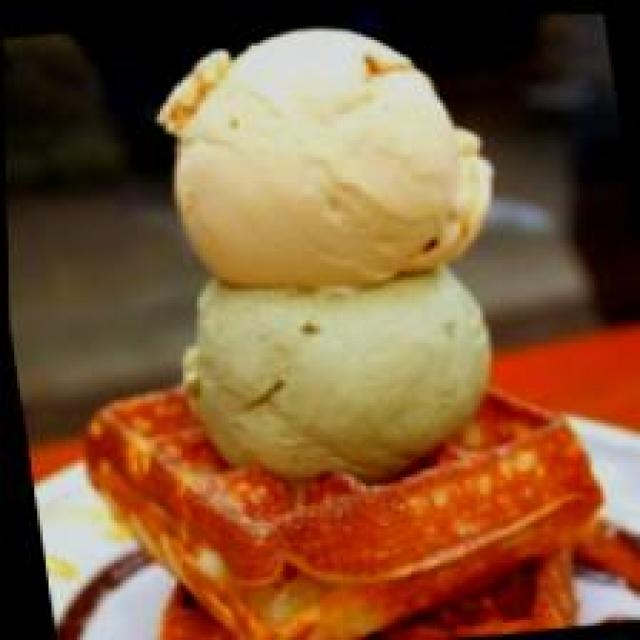Waffles: (58, 308, 610, 640)
